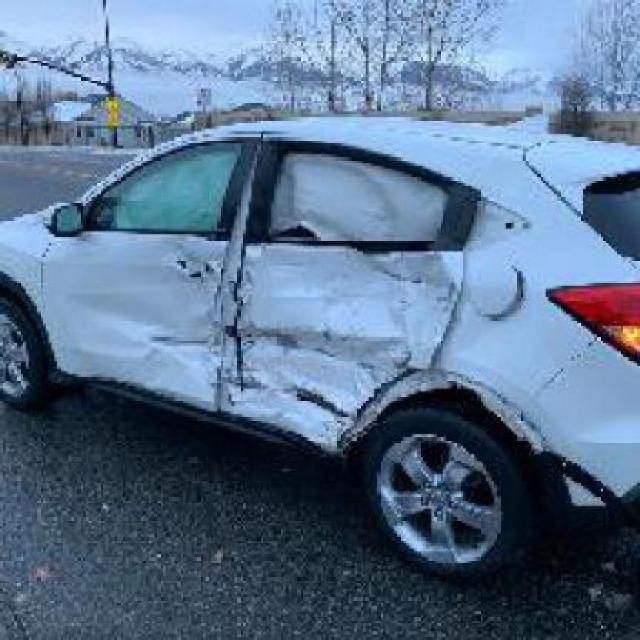damaged-door: (243, 123, 460, 439)
